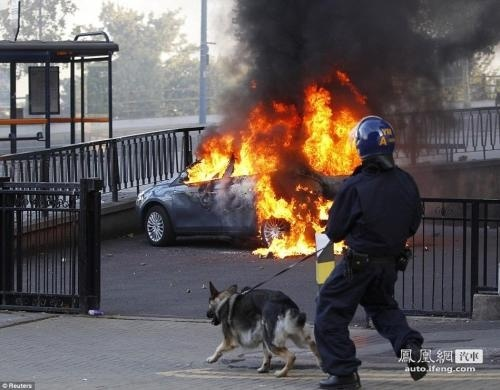fire: (185, 77, 371, 255)
